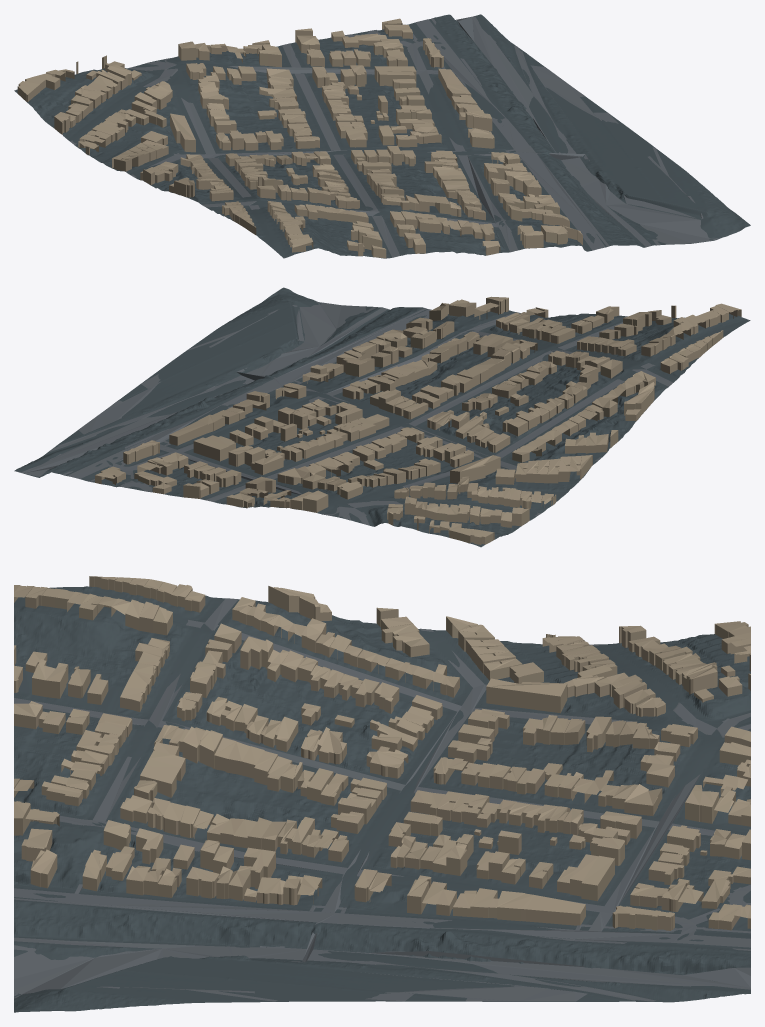
File: epsg26910-1439-10871.lod0.glb
3 renders of one model, top to bottom at view 1: azimuth 30°, elevation 25°; view 2: azimuth 150°, elevation 25°; view 3: azimuth 270°, elevation 25°, orthographic. The views are drawn at different scales.
Visible parts, largest first — view 1: epsg26910-1439-10871-lod0; view 2: epsg26910-1439-10871-lod0; view 3: epsg26910-1439-10871-lod0.
Boxes of the visible parts, <box> form: epsg26910-1439-10871-lod0: <box>14,14,750,258</box>; epsg26910-1439-10871-lod0: <box>14,287,750,547</box>; epsg26910-1439-10871-lod0: <box>14,576,750,1012</box>.
Bounding box in the file's own units: 384 × 76.86 × 384.
